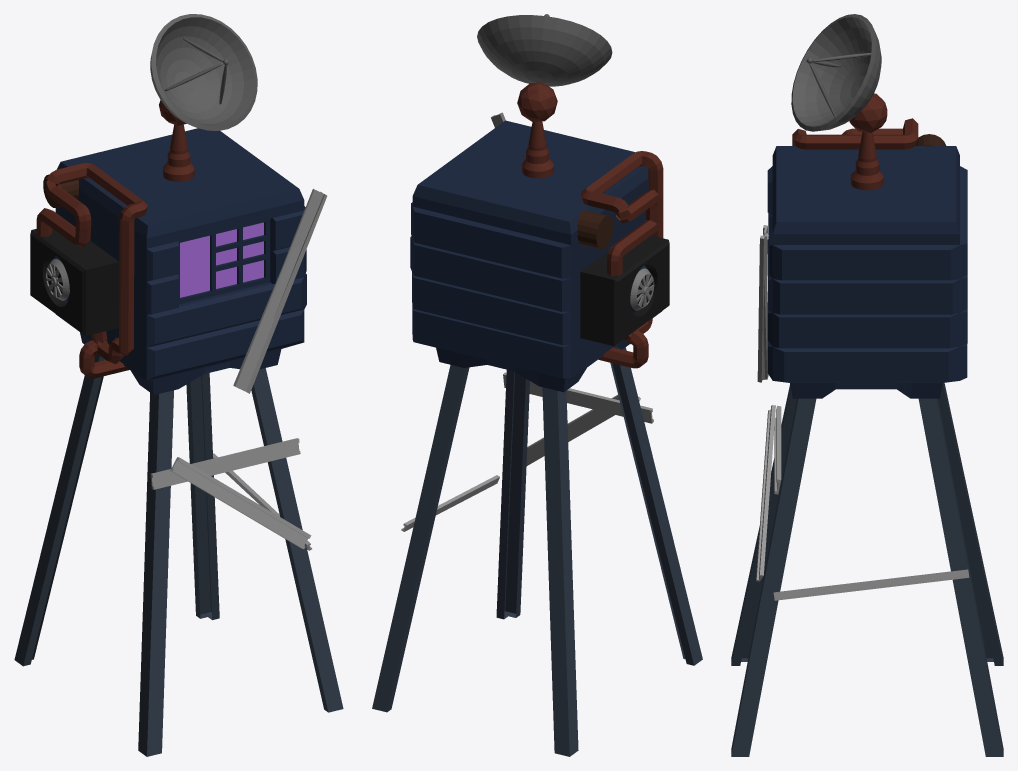
File: tower-1-laser.gltf
3 views of the same model, side by side, from view 1: azimuth 30°, elevation 25°; view 2: azimuth 150°, elevation 25°; view 3: azimuth 270°, elevation 25° (orthographic). The views are drawn at different scales.
Visible parts, largest first — view 1: Tower Laser Base; view 2: Tower Laser Base; view 3: Tower Laser Base.
Boxes of the visible parts, x1,y1,x2,y2 form: Tower Laser Base: [14, 14, 343, 756]; Tower Laser Base: [372, 14, 702, 756]; Tower Laser Base: [731, 14, 1003, 756].
Bounding box in the file's own units: 2.59 × 7.6 × 2.74.
